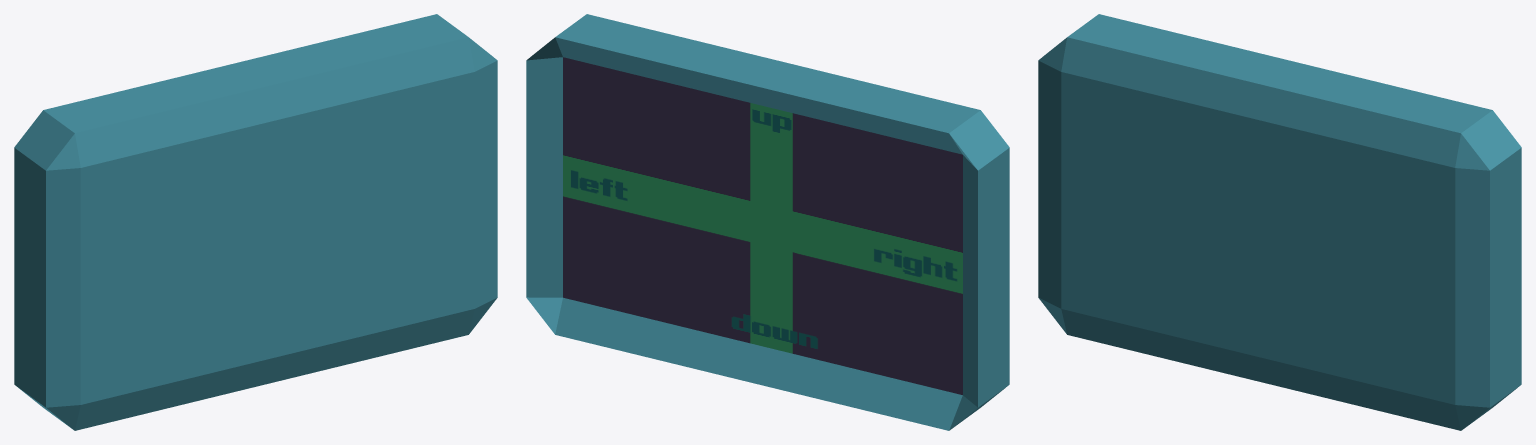
Rendered from signboard.glb.
3 views of the same model, side by side, from view 1: azimuth 30°, elevation 25°; view 2: azimuth 150°, elevation 25°; view 3: azimuth 330°, elevation 25° (orthographic).
Visible parts, largest first — view 1: ScreenBot; view 2: ScreenBot; view 3: ScreenBot.
Part boxes in pixels (<box>): ScreenBot: <box>14,14,497,430</box>; ScreenBot: <box>526,14,1009,430</box>; ScreenBot: <box>1038,14,1521,430</box>.
Size of the model in its own units: 6.24 by 3.93 by 0.9003.
Materials: 2 (1 with a texture image).
